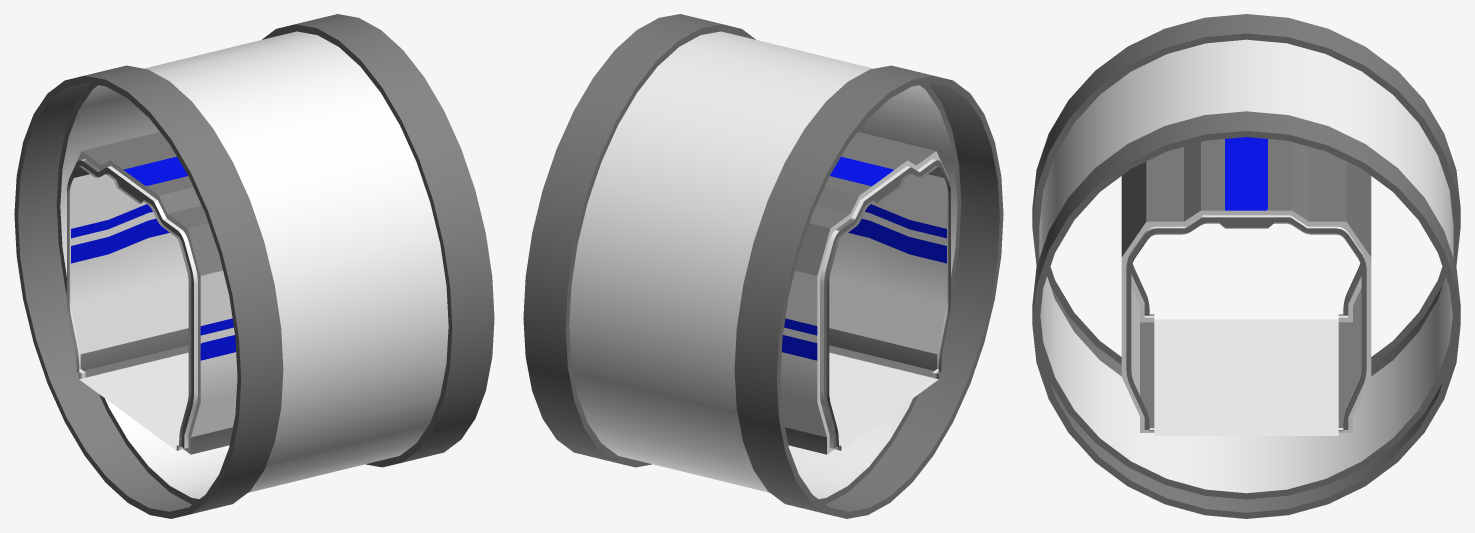
Rendered from Pasillo.fbx.
3 views of the same model, side by side, from view 1: azimuth 30°, elevation 25°; view 2: azimuth 150°, elevation 25°; view 3: azimuth 270°, elevation 25° (orthographic). The views are drawn at different scales.
Visible parts, largest first — view 1: Pasillo; view 2: Pasillo; view 3: Pasillo.
Part boxes in pixels (box(x1,y1,x2,y2)): Pasillo: box(14, 14, 494, 518); Pasillo: box(523, 14, 1003, 518); Pasillo: box(1032, 14, 1460, 518).
Size of the model in its own units: 800 by 1240 by 1240.
1 material, 1 textured.
